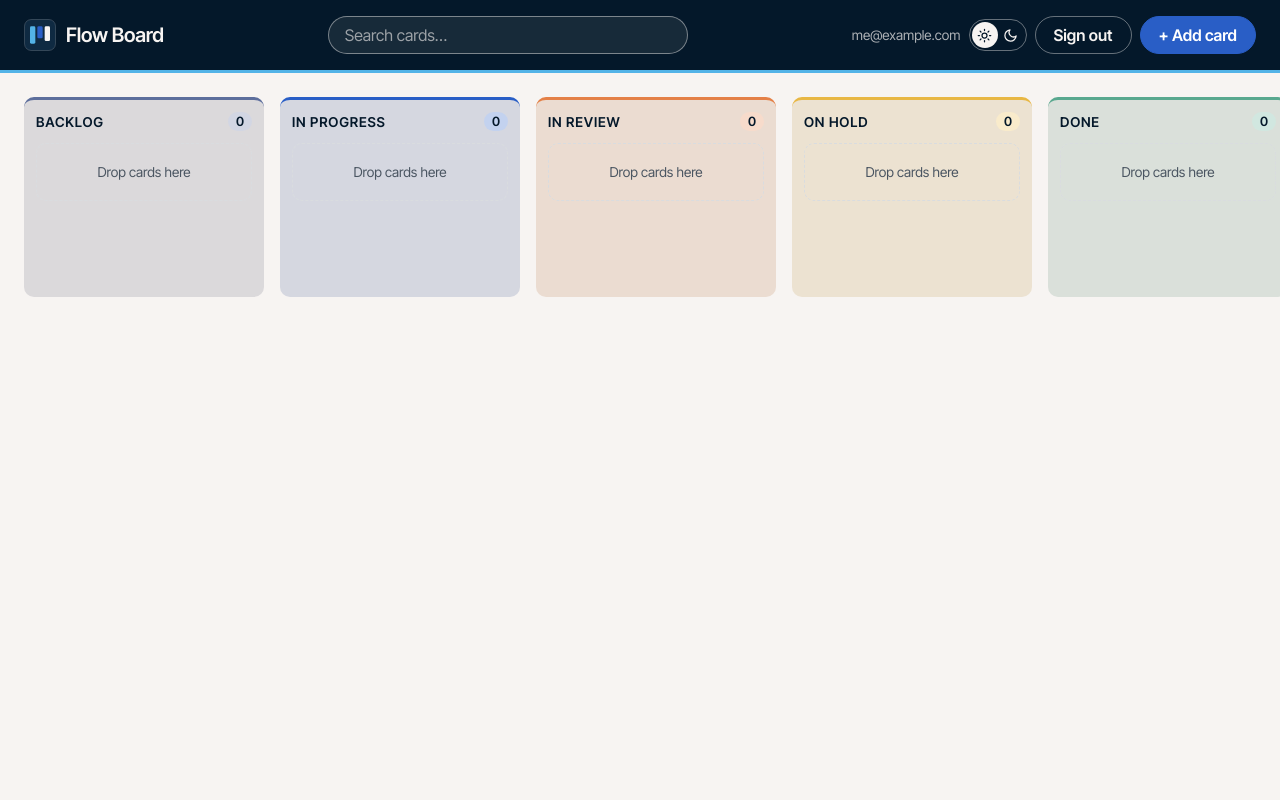
it: Board: creating cards › adds a card from the form to the top of Backlog and saves it
Click the button "+ Add card" at (1198, 35), box [1140,16,1256,54]
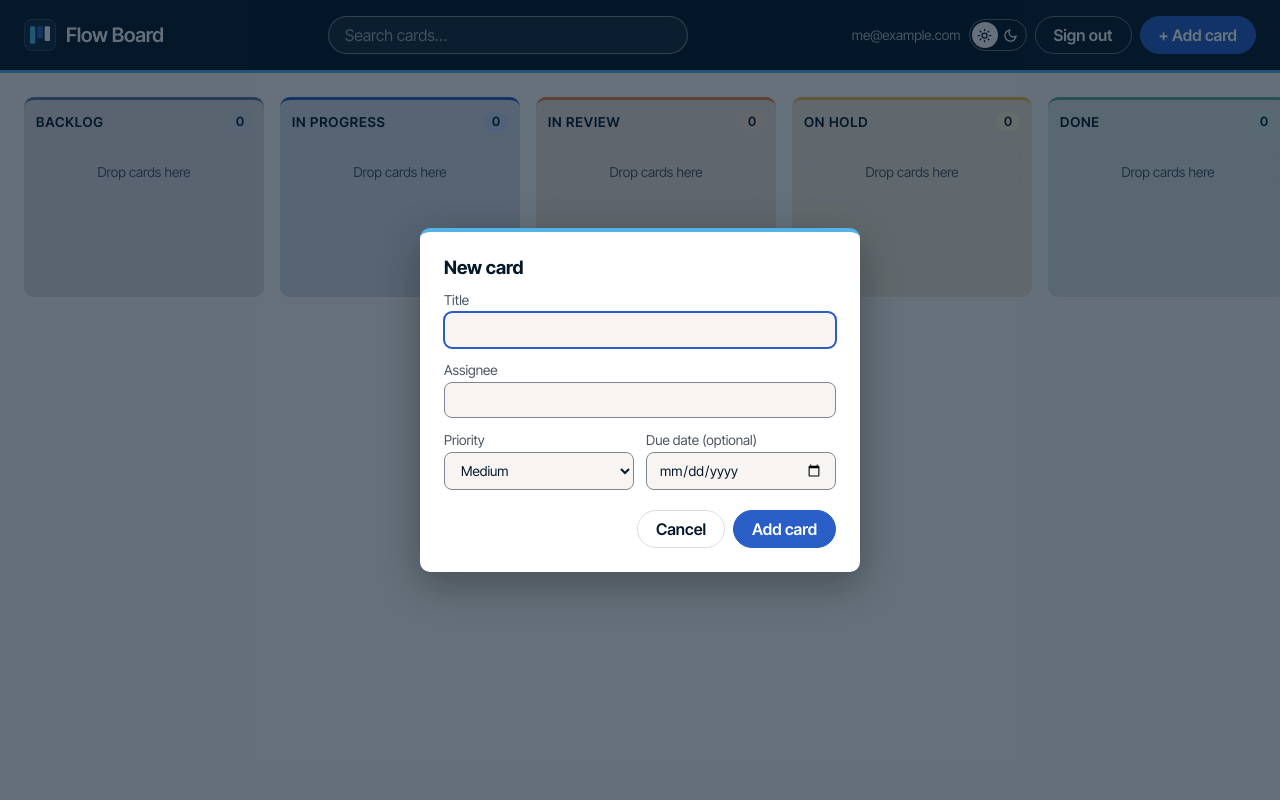
Type "Write release notes" into the field labelled "Title" at (640, 330), box [444,312,836,348]
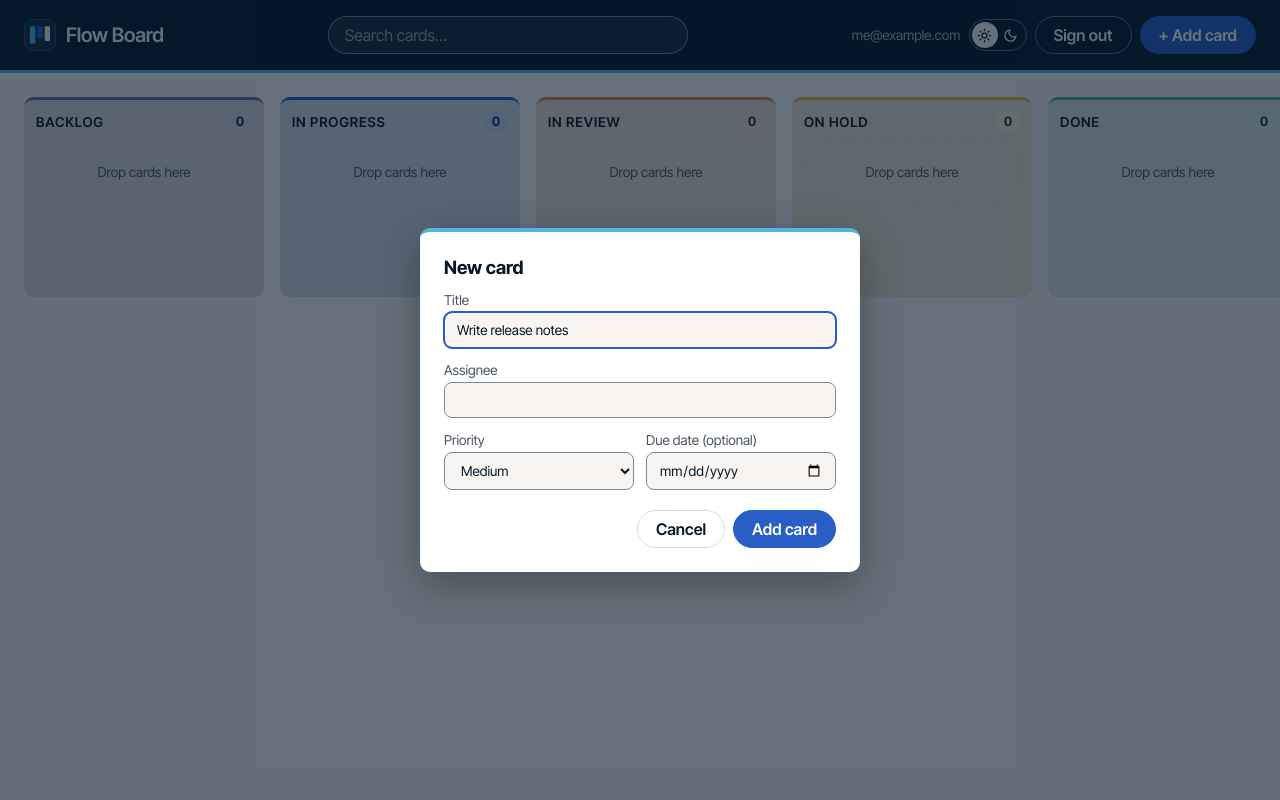
Type "Ana" into the field labelled "Assignee" at (640, 400), box [444,382,836,418]
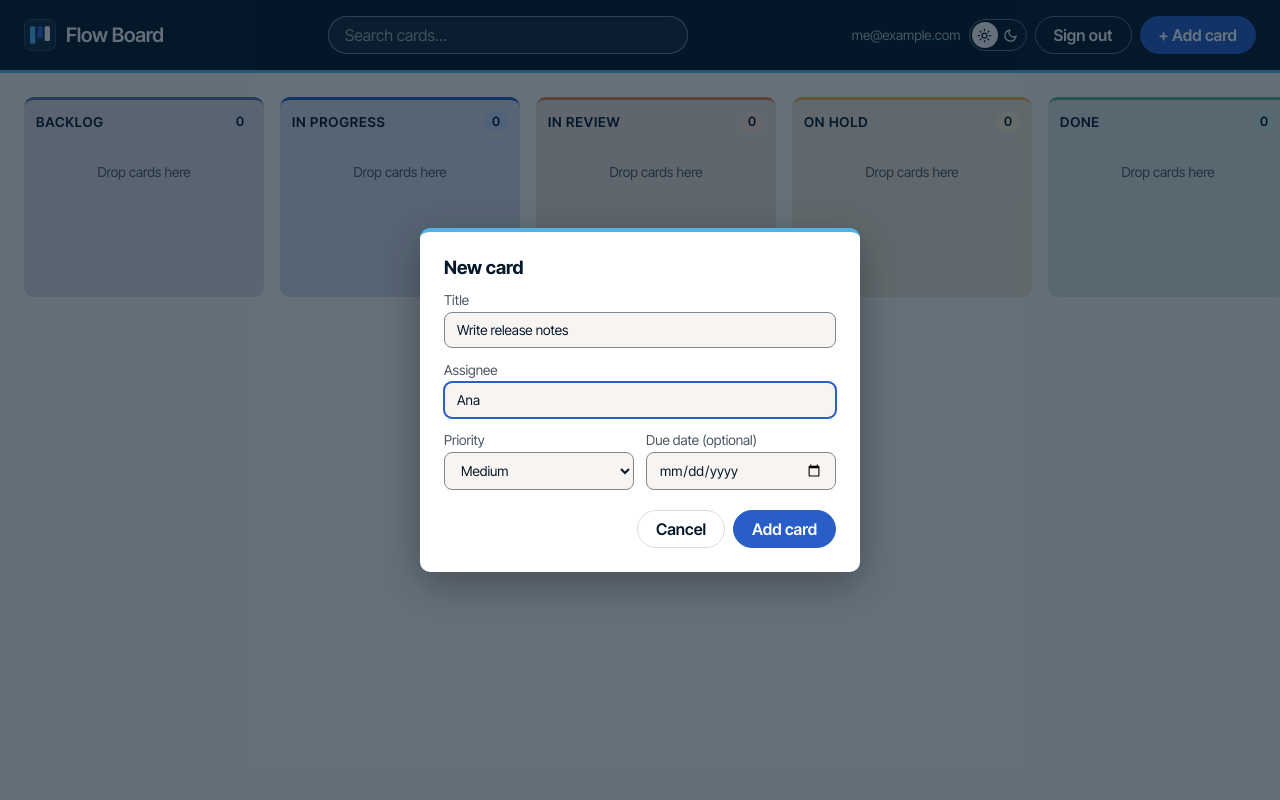
Select "High" in the dropdown labelled "Priority" at (539, 471), box [444,452,634,490]
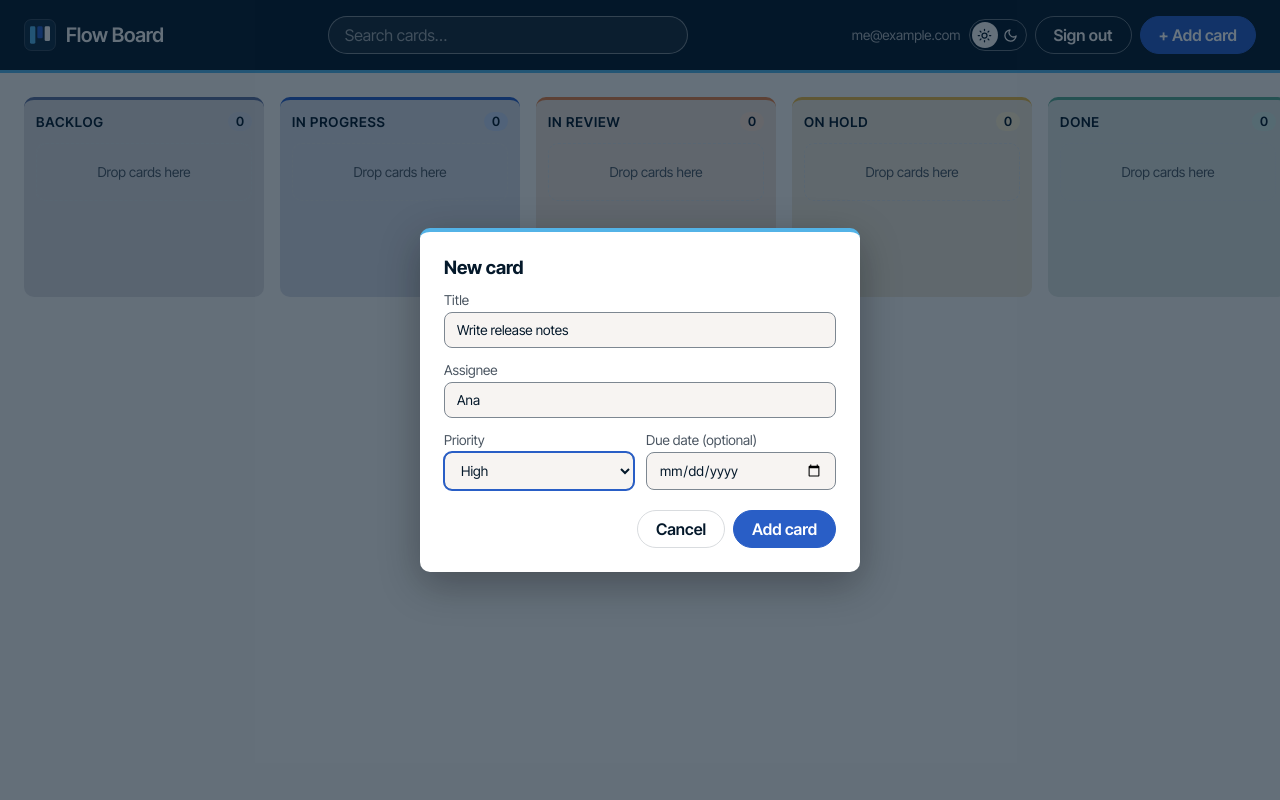
Type "2026-11-03" into the date field labelled "Due date (optional)" at (741, 471), box [646,452,836,490]
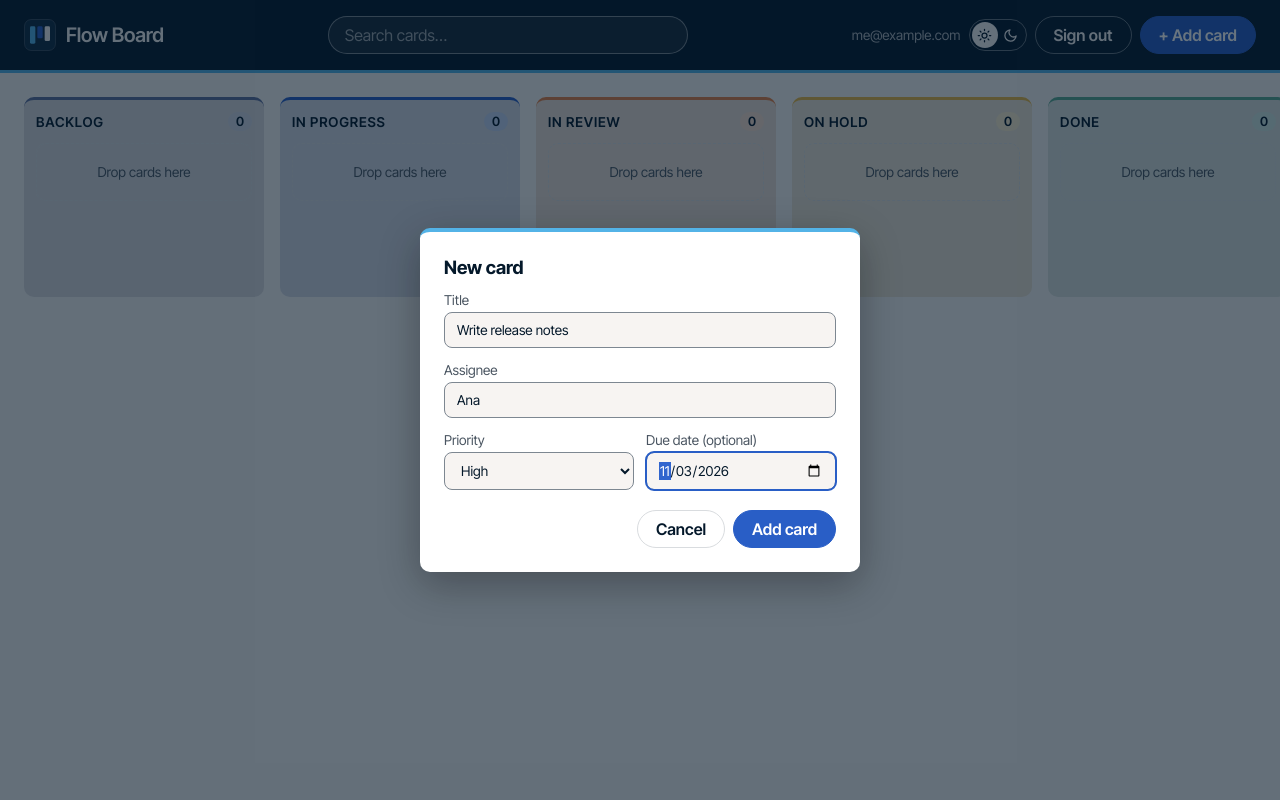
Click the button "Add card" at (785, 529), box [733,510,836,548]
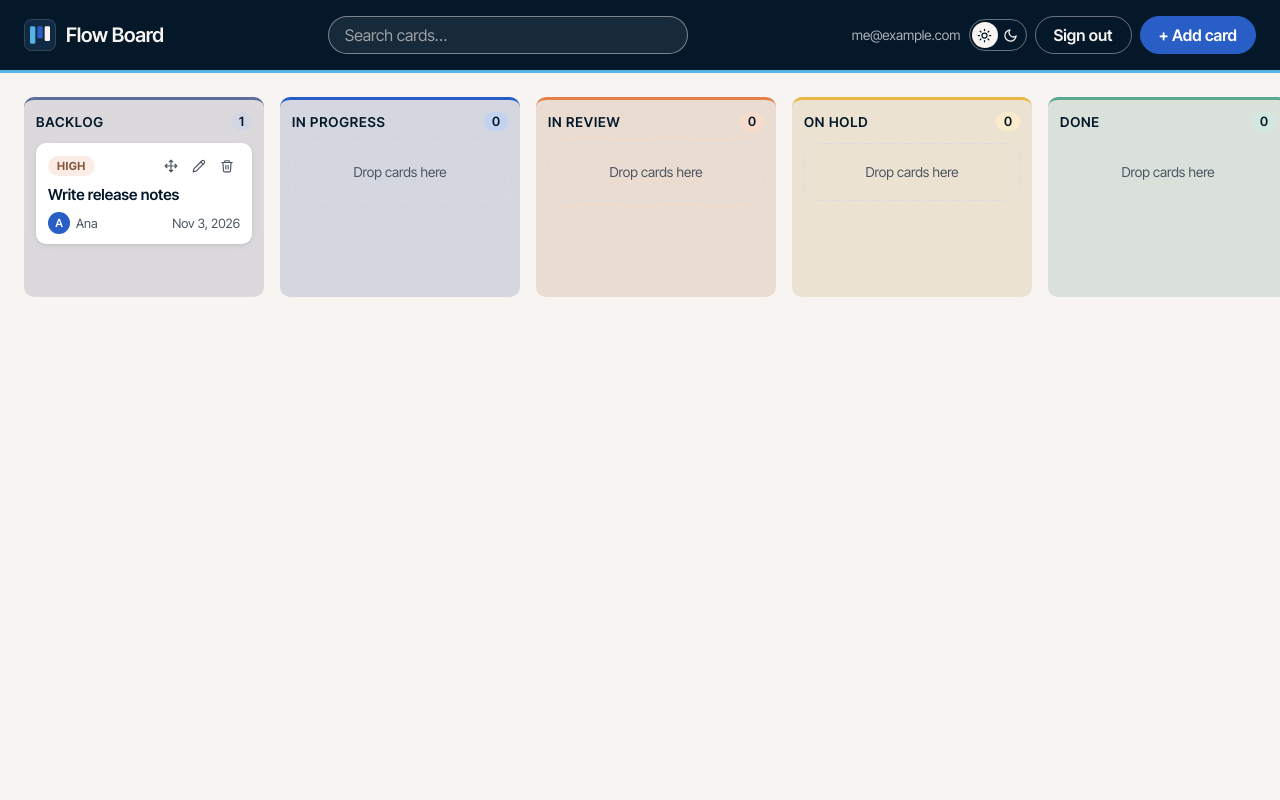
expect the dialog is gone: met
expect the text "High" is shown: met, box [48,156,95,176]
